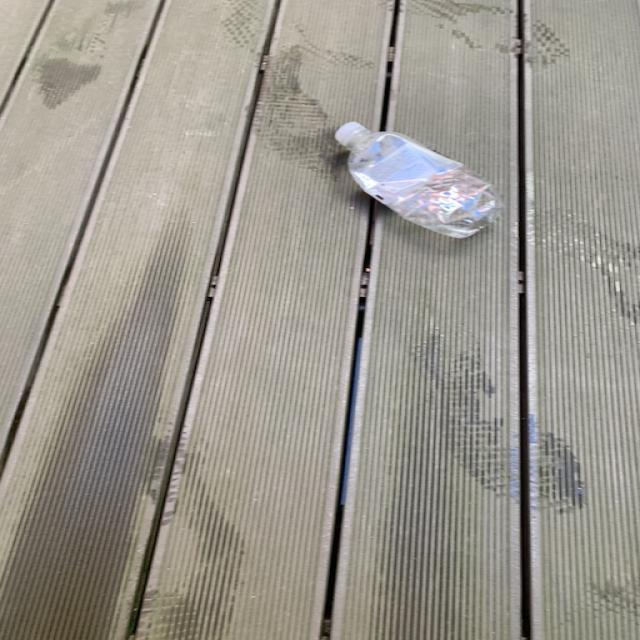Waste: (335, 122, 502, 238)
